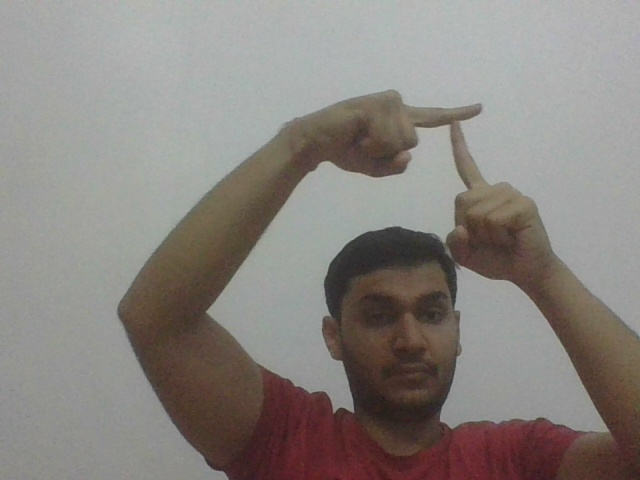T: (420, 99, 502, 181)
